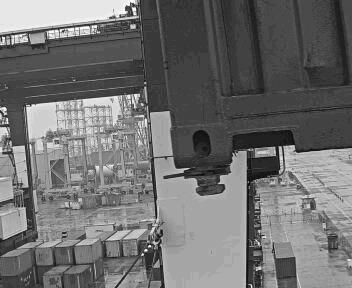twist_lock_1: (175, 160, 238, 204)
